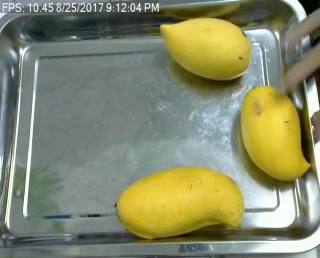Mango: (114, 164, 242, 235), (239, 81, 310, 183), (163, 15, 249, 84)
